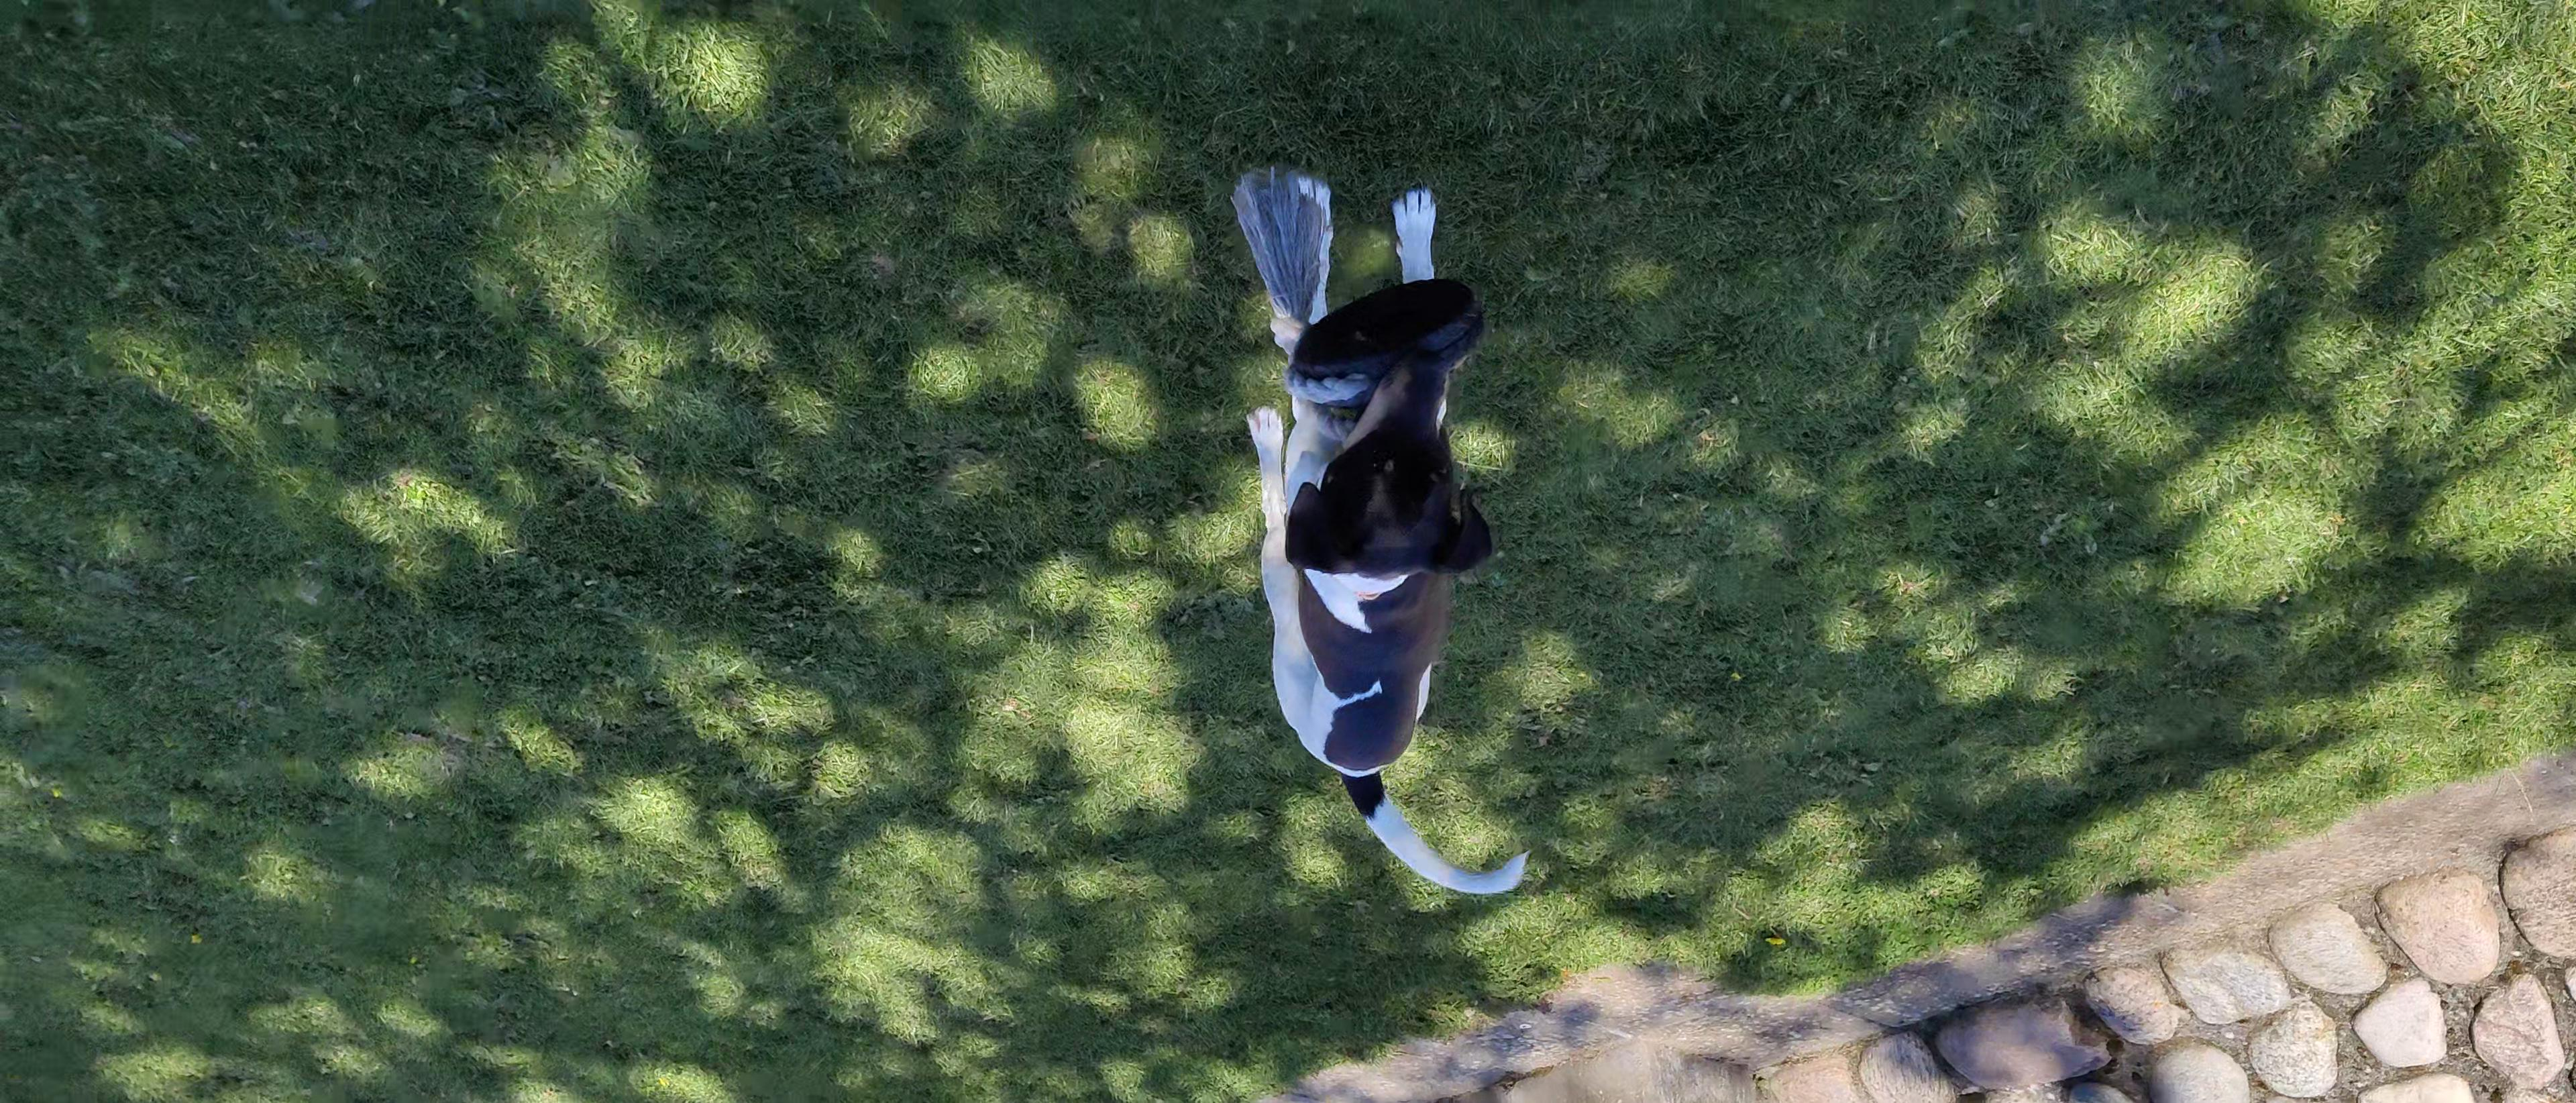Dog: (1209, 127, 1559, 901)
